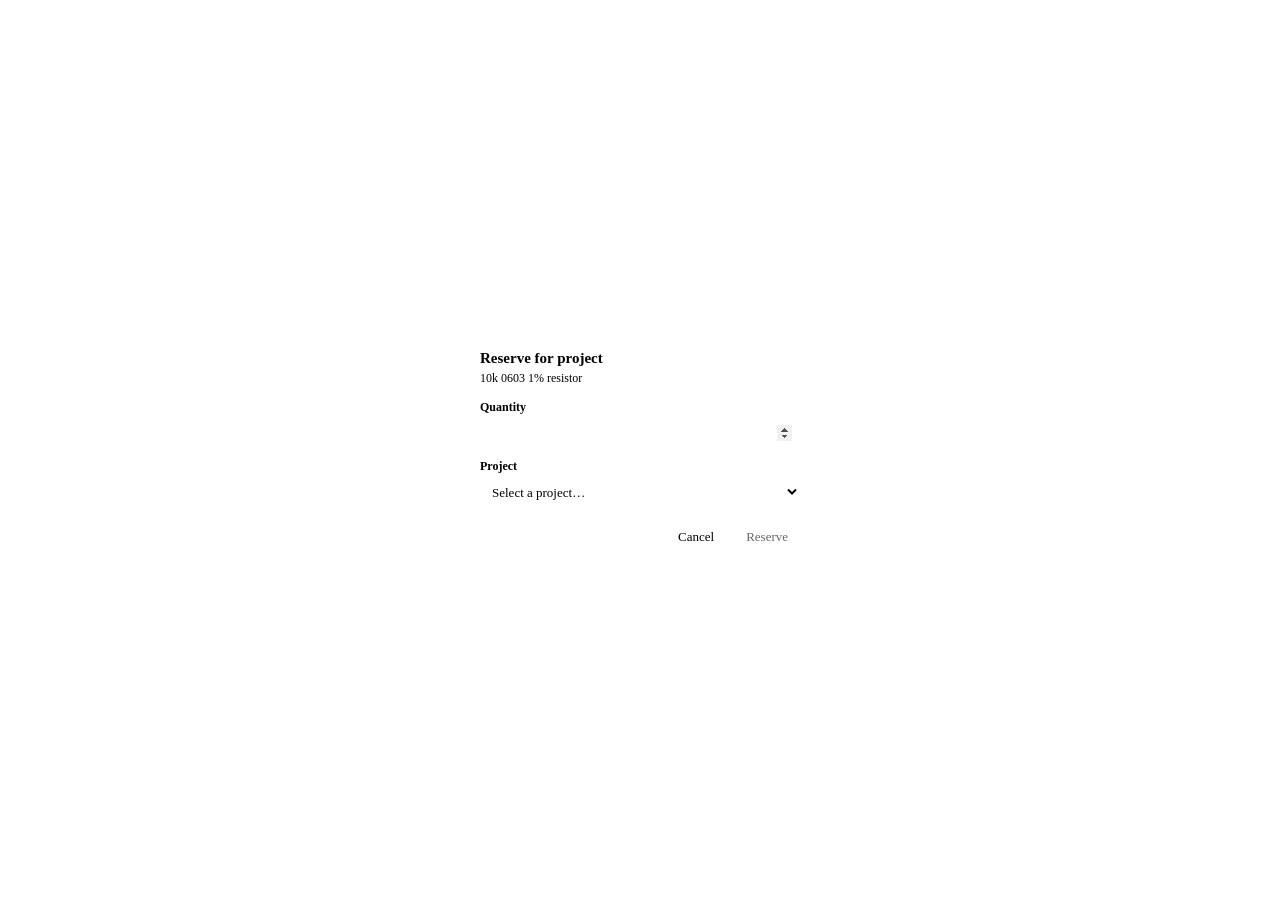
Test: QuickAction — required project (Reserve) › disables submit until a project is chosen, then reserves with that project
In the number field labelled "Quantity": (640, 432) 480,418 -> 800,446, type "5"
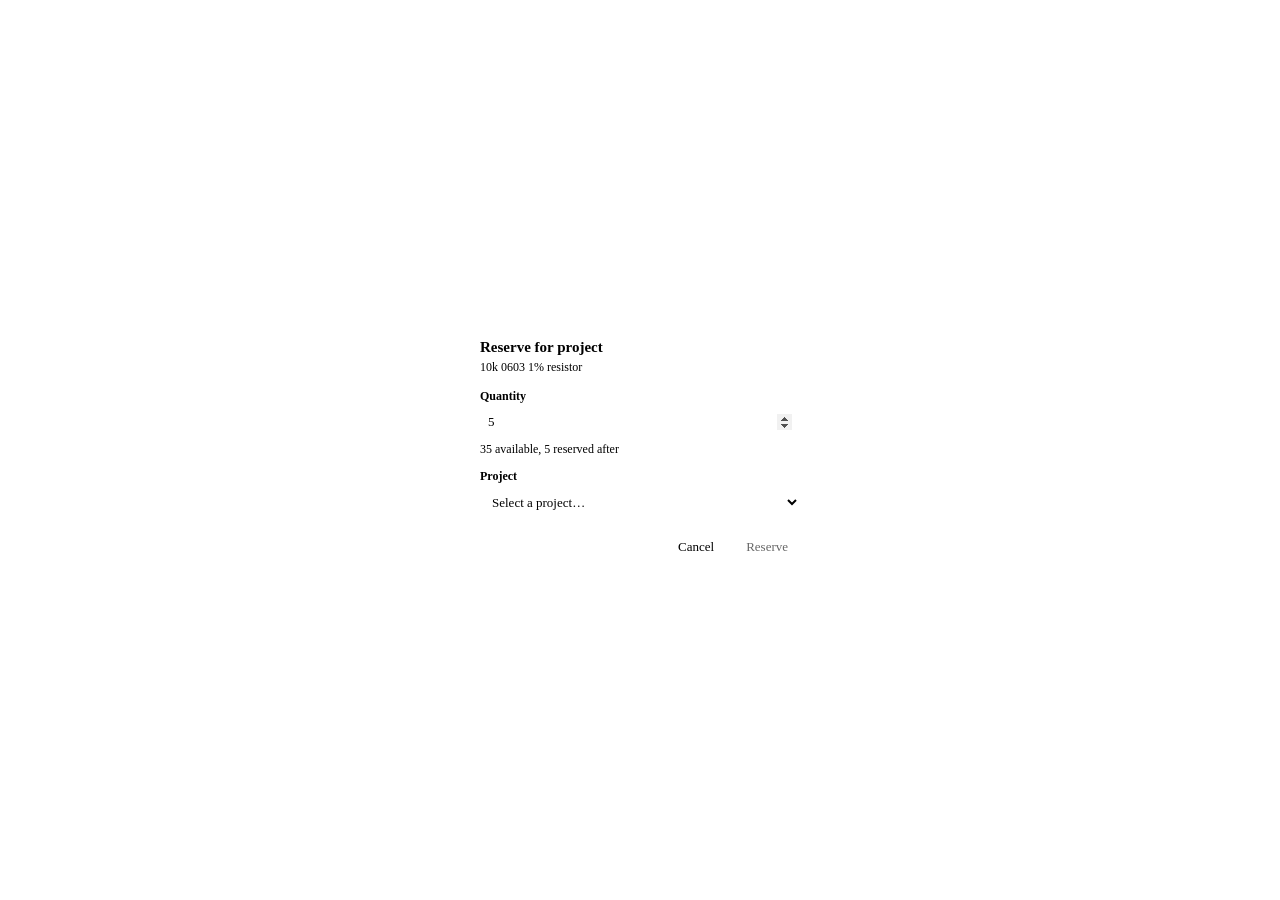
Check: the button "Reserve" is disabled, box 734,533 -> 800,561
Select "Blinky Board" in the dropdown labelled "Project": (640, 502) 480,488 -> 800,517
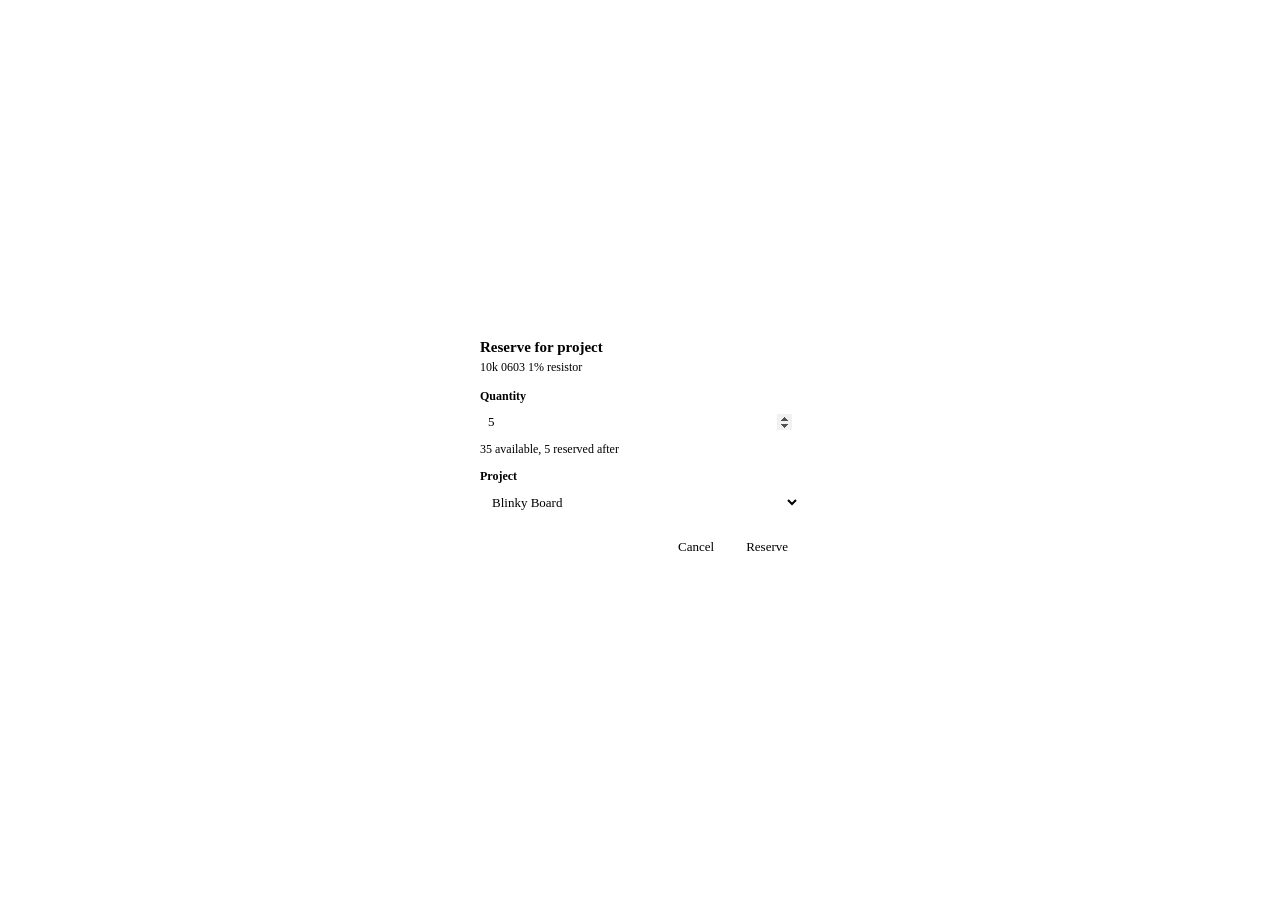
Check: the button "Reserve" is enabled
Click the button "Reserve": click(767, 547) 734,533 -> 800,561
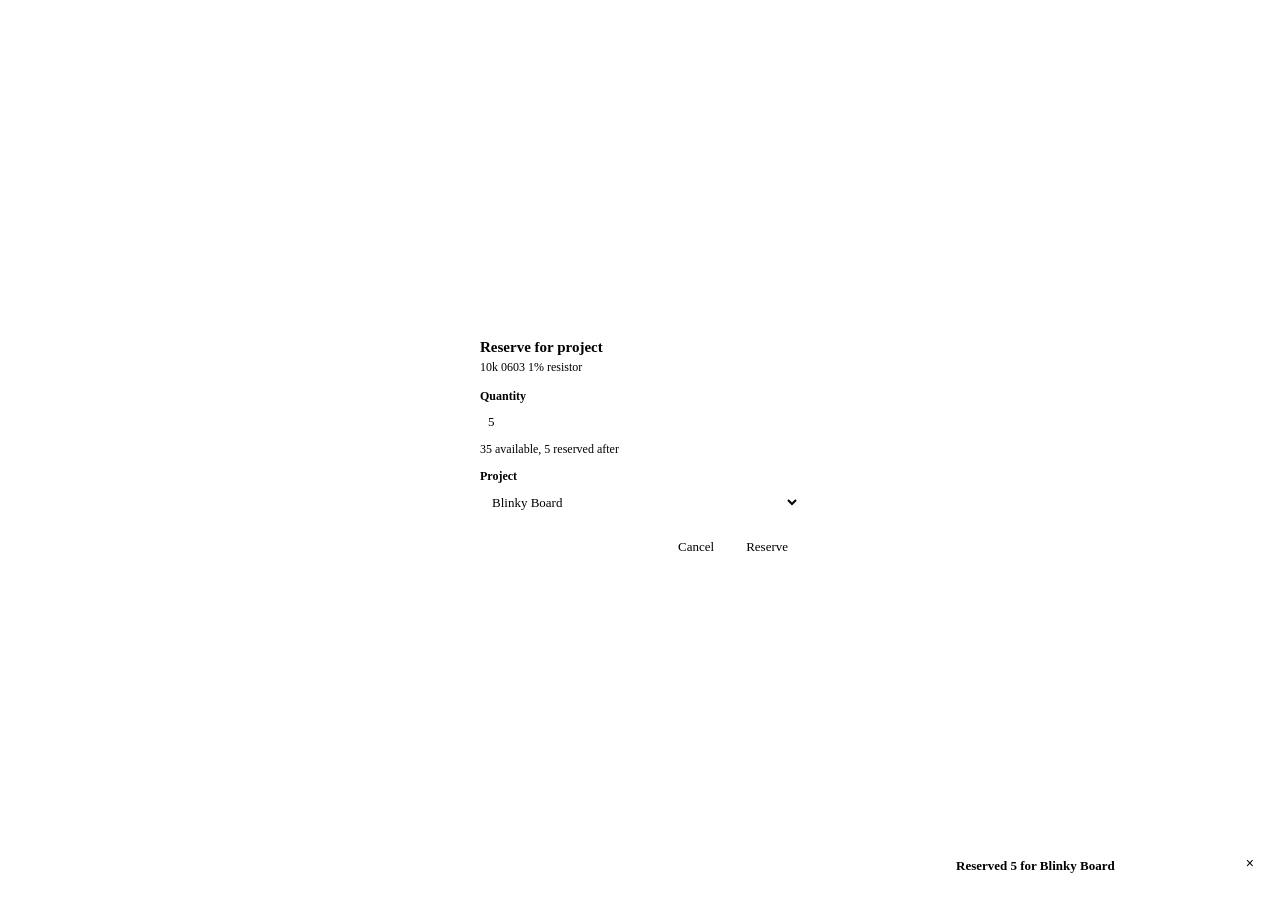
Check: the text "Reserved 5 for Blinky Board" is shown, box 956,858 -> 1115,873
